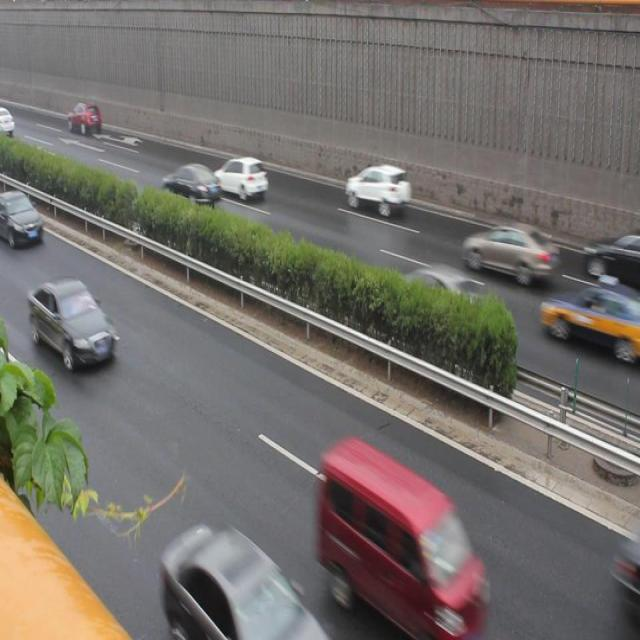car: (160, 524, 334, 640), (32, 271, 117, 371), (394, 257, 489, 336), (544, 281, 627, 365), (464, 218, 551, 290), (580, 224, 640, 295), (347, 160, 412, 218), (1, 183, 45, 253), (161, 162, 221, 208), (214, 158, 269, 200), (68, 101, 104, 136)
truck: (321, 441, 493, 640)
